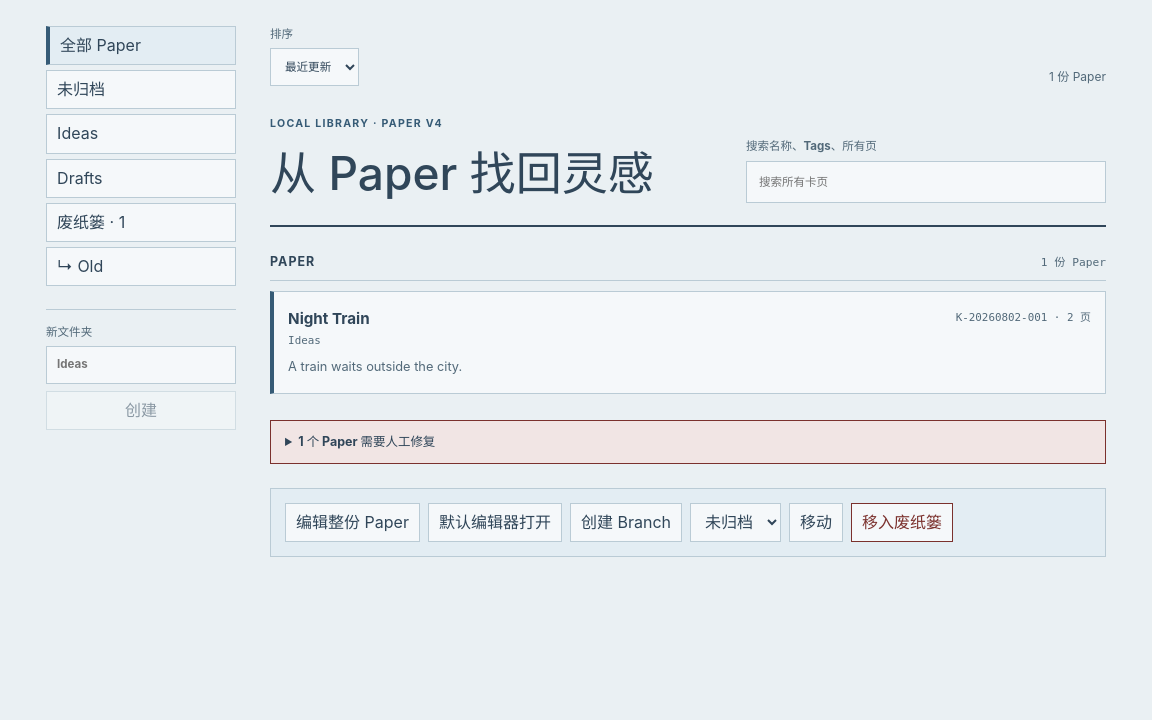
Road v0.7 Library runtime › moves the selected Paper once with the current locator and reads reports
Select "Drafts" in the dropdown named "目标文件夹" at (736, 522), box x1=690 y1=503 x2=781 y2=542
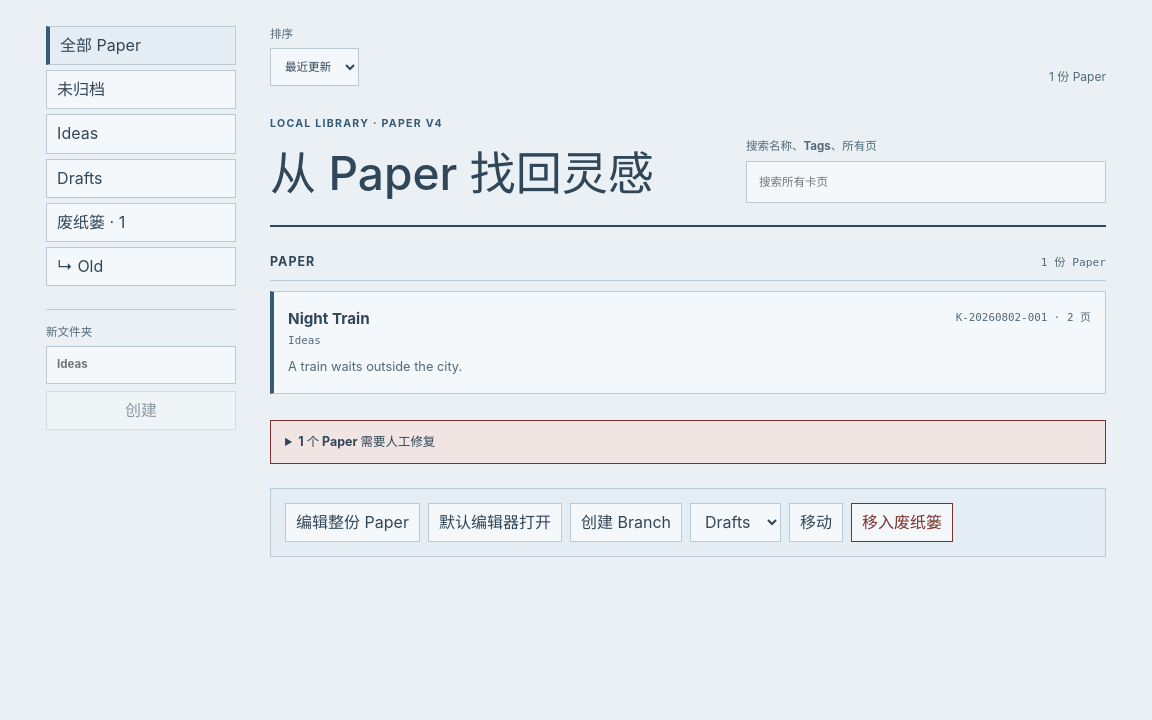
Click the button "移动".
click(816, 522)  # box x1=789 y1=503 x2=843 y2=542
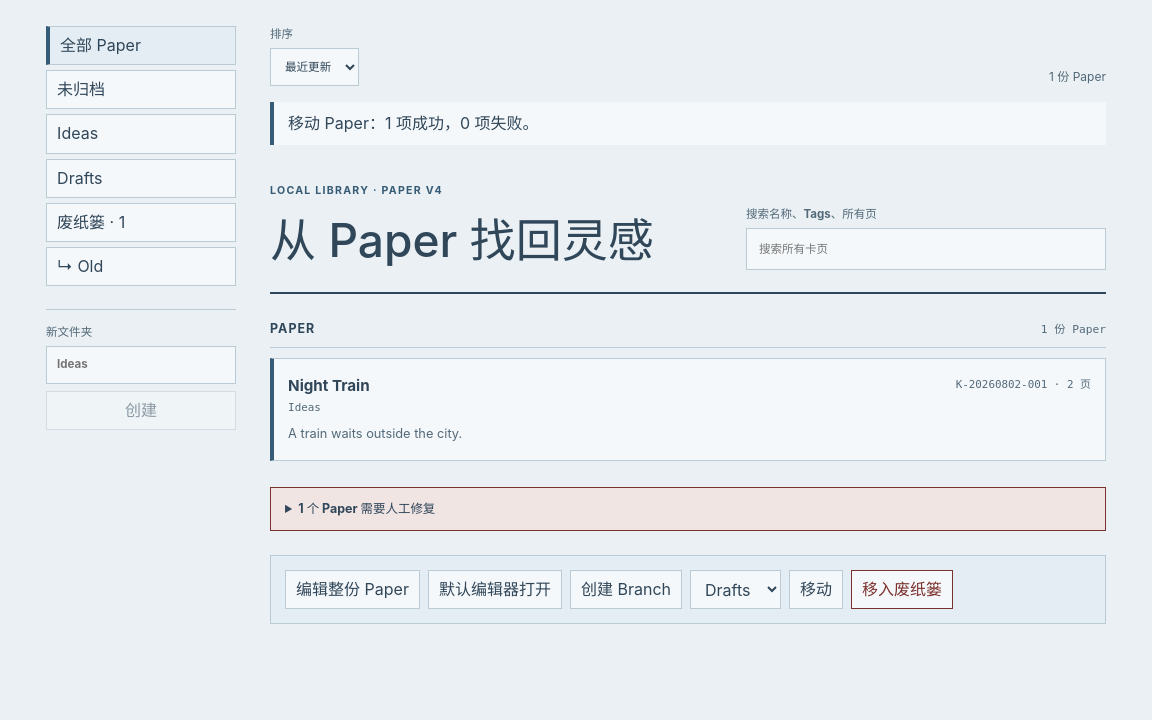
Check: the text "1 项成功，0 项失败" is shown, box x1=288 y1=113 x2=539 y2=133
